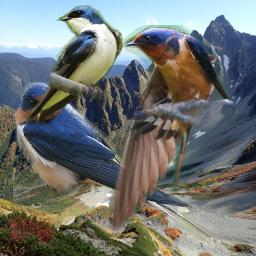Swallow: (13, 82, 222, 248), (108, 25, 238, 231), (26, 5, 123, 124)
